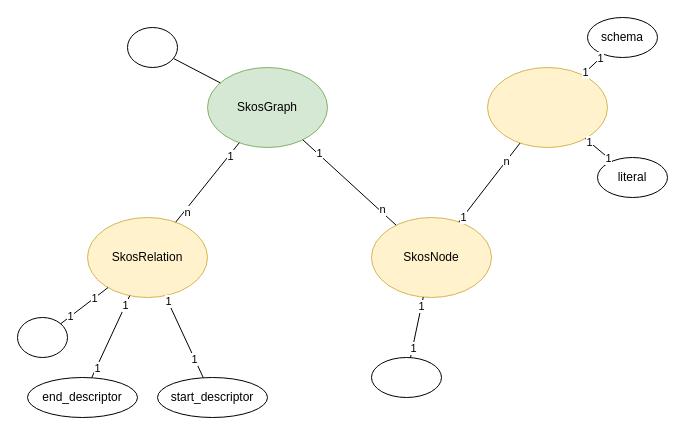
Some shapes in this 685 by 435 pixel diagram are drawn without their labels. Here are the shapes that lost their labels. From the top down, the box of each, then its label:
(126, 26, 178, 68): name
(486, 66, 608, 148): SkosAttribute
(16, 316, 68, 358): label
(370, 356, 442, 398): descriptor
